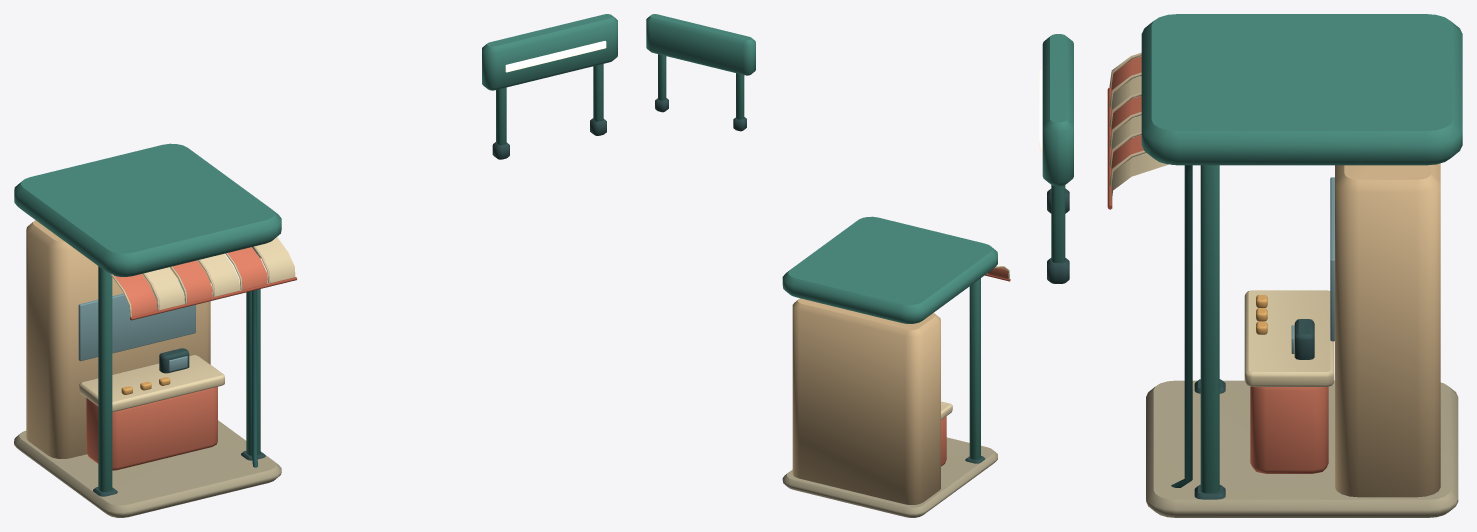
File: tropical_rent_4.glb
3 renders of one model, left to right at view 1: azimuth 30°, elevation 25°; view 2: azimuth 150°, elevation 25°; view 3: azimuth 270°, elevation 25°, orthographic. The views are drawn at different scales.
Parts seen in each view (by area): view 1: TropicalRent4; view 2: TropicalRent4; view 3: TropicalRent4.
Boxes of the visible parts, <box> form: TropicalRent4: <box>14,14,617,517</box>; TropicalRent4: <box>646,14,1010,517</box>; TropicalRent4: <box>1039,14,1462,517</box>.
Bounding box in the file's own units: 6.34 × 5.32 × 3.36.
